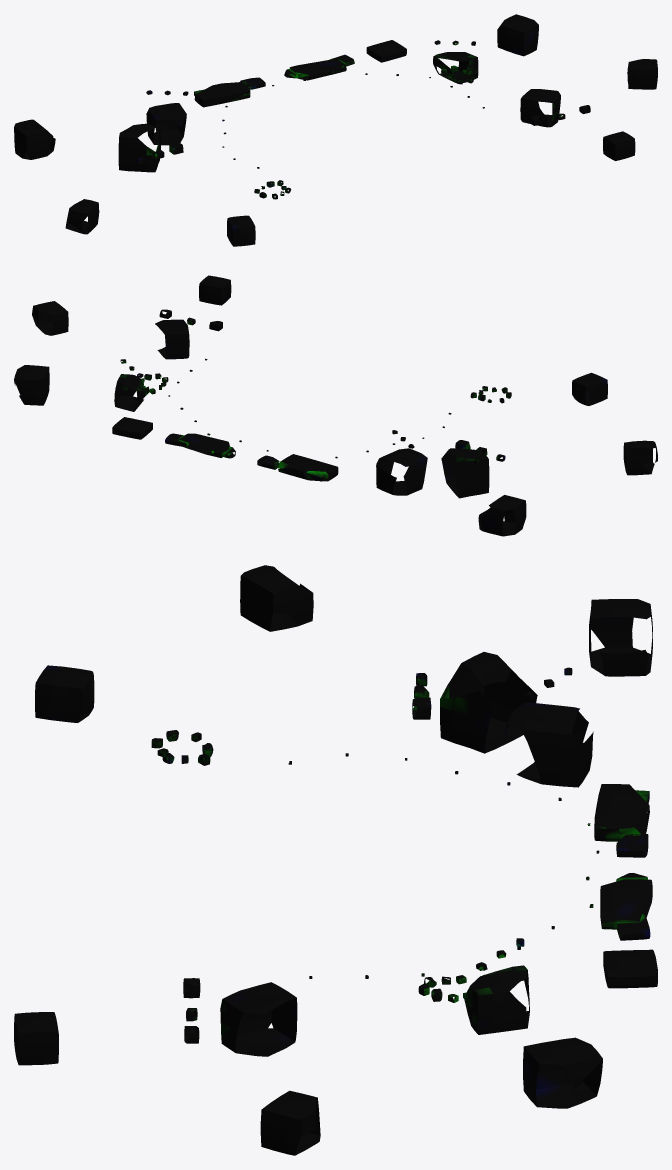
The model's file is aqs002_rock_hero.glb.
3 views of the same model, one above another, from view 1: azimuth 30°, elevation 25°; view 2: azimuth 150°, elevation 25°; view 3: azimuth 270°, elevation 25° (orthographic). The views are drawn at different scales.
Visible parts, largest first — view 1: RockHero; view 2: RockHero; view 3: RockHero.
Boxes of the visible parts, <box> form: RockHero: <box>14,14,657,246</box>; RockHero: <box>14,275,657,536</box>; RockHero: <box>14,565,657,1155</box>.
Size of the model in its own units: 13.71 by 1.12 by 6.72.
